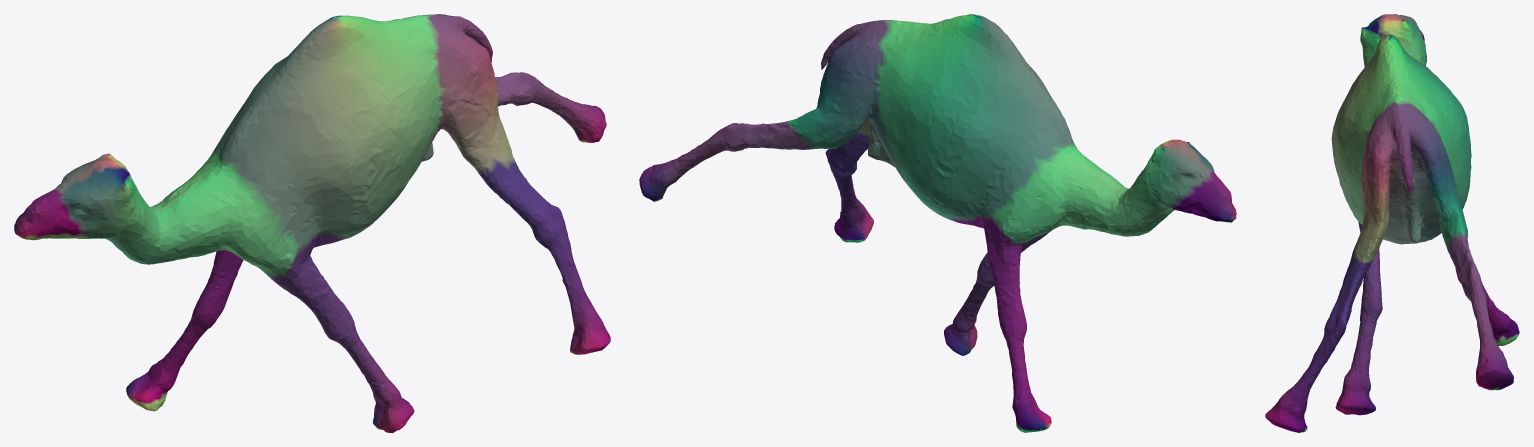
File: camel-6.off.obj
The picture shows the model from 3 angles, left to right: view 1: azimuth 30°, elevation 25°; view 2: azimuth 150°, elevation 25°; view 3: azimuth 270°, elevation 25°; orthographic projection. The views are drawn at different scales.
Bounding box in the file's own units: 1.7 × 1.05 × 0.6614.
